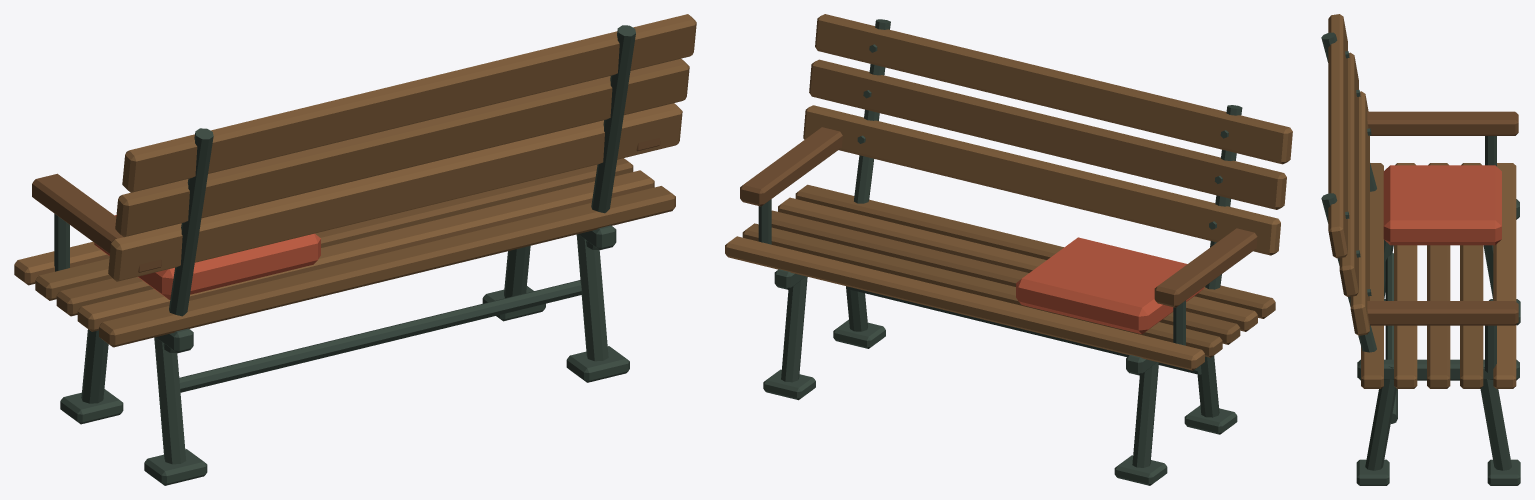
File: SM_Bench_L0.glb
3 views of the same model, side by side, from view 1: azimuth 30°, elevation 25°; view 2: azimuth 150°, elevation 25°; view 3: azimuth 270°, elevation 25° (orthographic). The views are drawn at different scales.
Visible parts, largest first — view 1: SM_Bench, SM_BenchCushion; view 2: SM_Bench, SM_BenchCushion; view 3: SM_Bench, SM_BenchCushion.
Boxes of the visible parts, x1,y1,x2,y2 form: SM_Bench: [14, 14, 696, 485]; SM_BenchCushion: [94, 215, 320, 299]; SM_Bench: [725, 14, 1292, 485]; SM_BenchCushion: [1016, 237, 1204, 334]; SM_Bench: [1321, 14, 1520, 485]; SM_BenchCushion: [1383, 165, 1501, 245].
Bounding box in the file's own units: 1.85 × 1.14 × 0.724.
